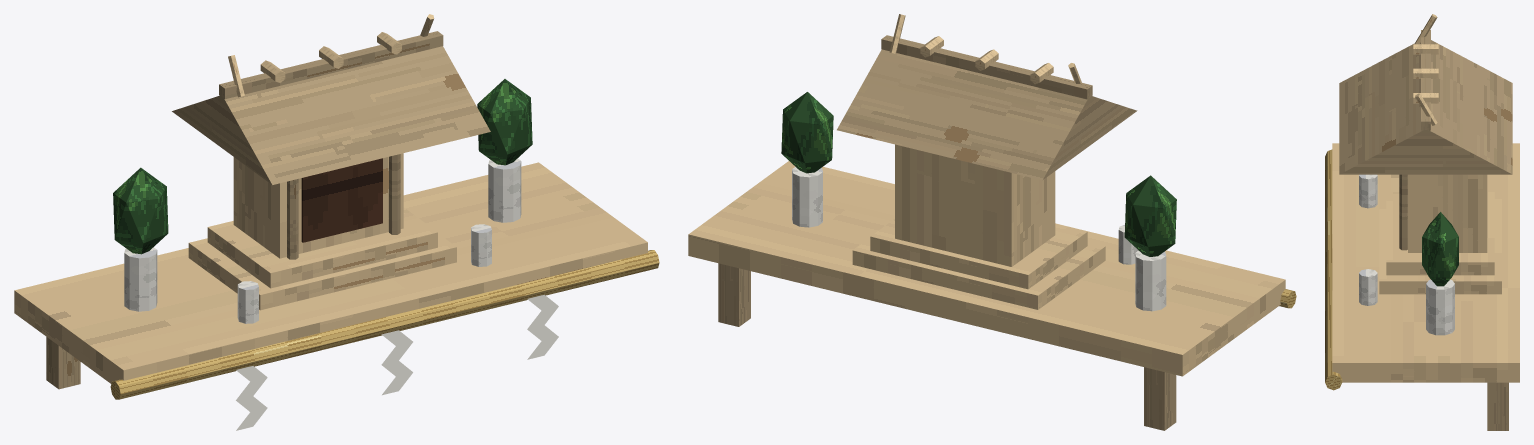
File: kamidana_own.glb
3 renders of one model, left to right at view 1: azimuth 30°, elevation 25°; view 2: azimuth 150°, elevation 25°; view 3: azimuth 270°, elevation 25°, orthographic. The views are drawn at different scales.
Visible parts, largest first — view 1: Cube; view 2: Cube; view 3: Cube.
Boxes of the visible parts, box(x1,y1,x2,y2) form: Cube: box(14, 14, 659, 430); Cube: box(688, 14, 1296, 430); Cube: box(1325, 14, 1519, 430).
Size of the model in its own units: 0.74 by 0.4241 by 0.27.
7 materials, 7 textured.
